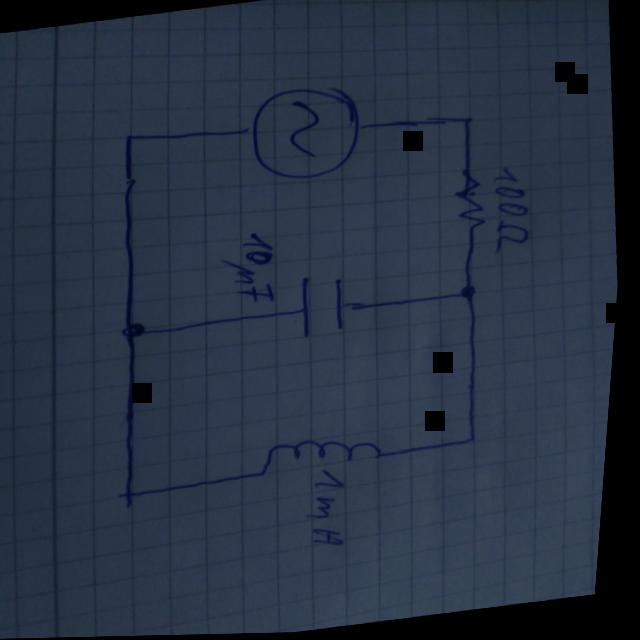capacitor: (297, 270, 357, 345)
inductor: (260, 428, 398, 482)
junction: (120, 316, 156, 345), (117, 481, 152, 508), (458, 279, 490, 305), (116, 126, 148, 148), (465, 427, 494, 450), (455, 111, 482, 131)
resistor: (449, 166, 496, 241)
source: (244, 79, 374, 187)
text: (220, 229, 290, 310), (487, 163, 541, 259), (306, 466, 363, 553)
